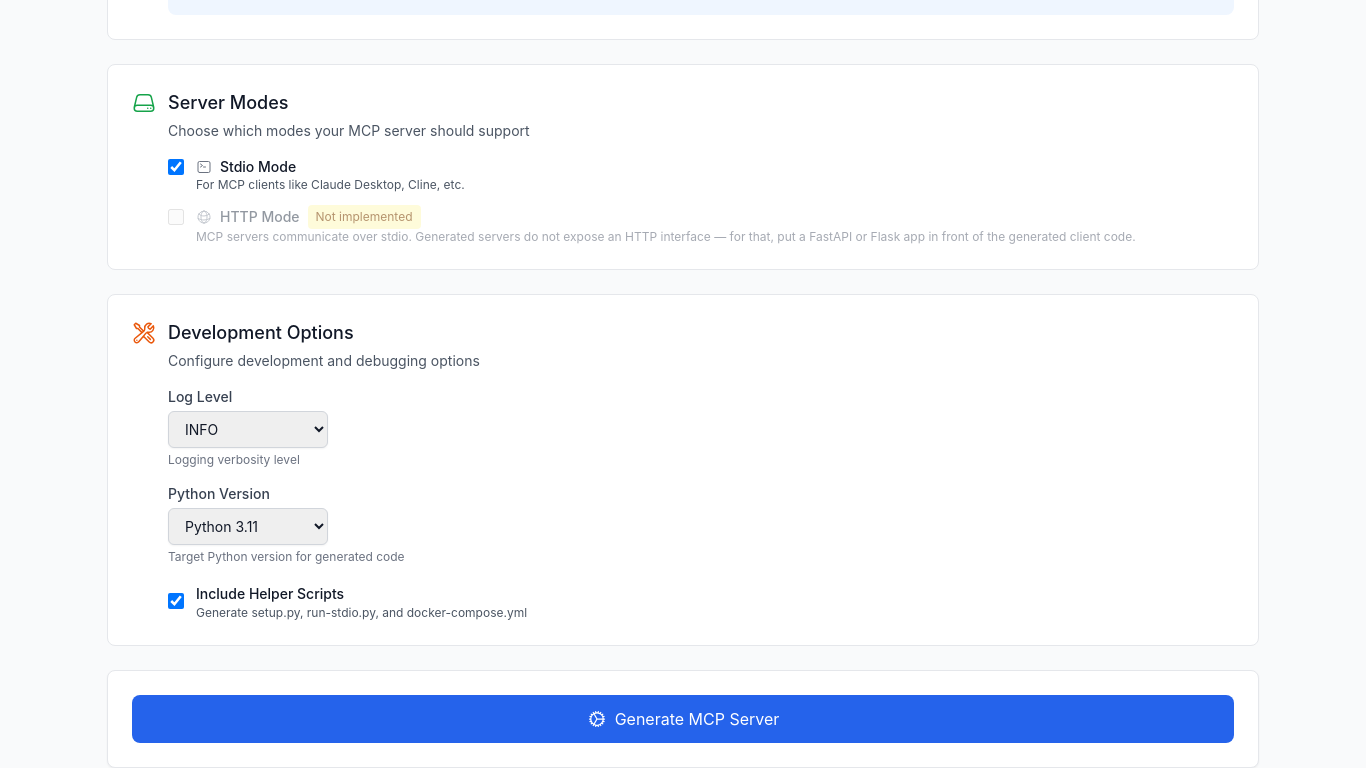
Scenario: MCPGenerator generation failure › renders results normally when generation succeeds
(page scrolled)
Click the button at (683, 719), box 132,695 -> 1234,743
(page scrolled)
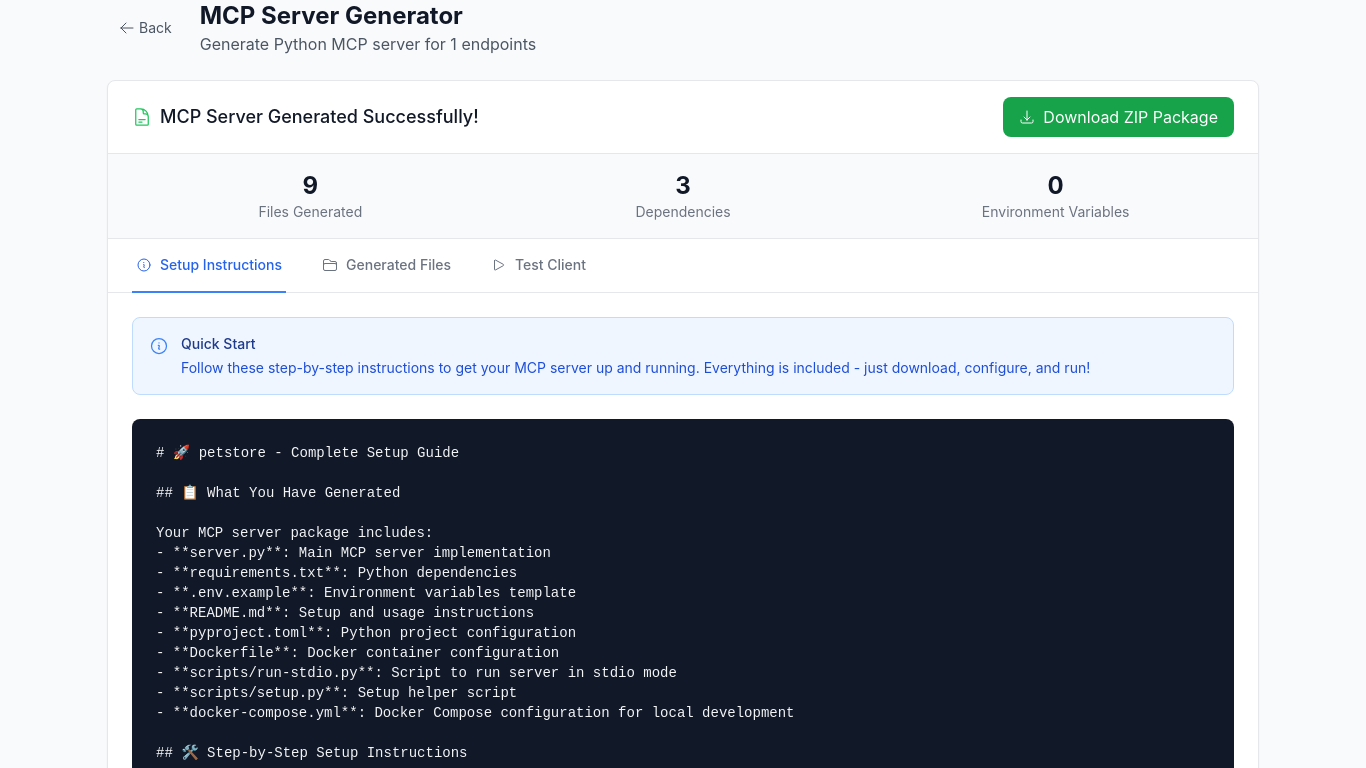
Expected: the heading "MCP Server Generated Successfully!" is shown, 160,103 -> 479,131
